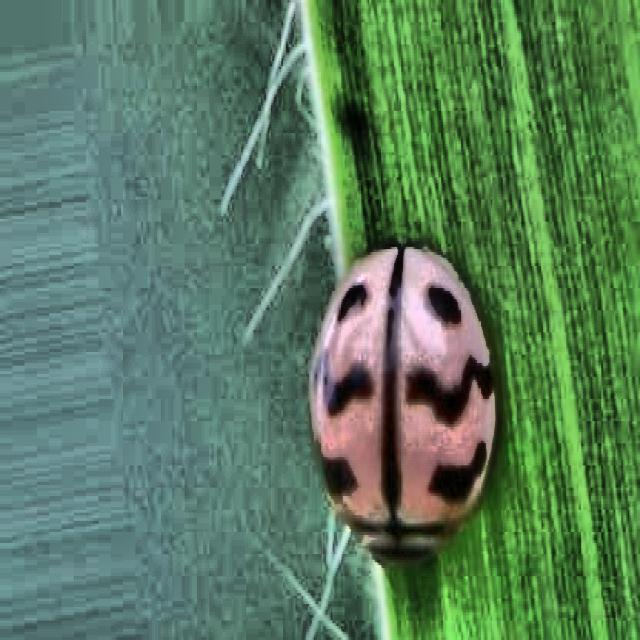Asian-Lady-beetle: (270, 189, 548, 604)
